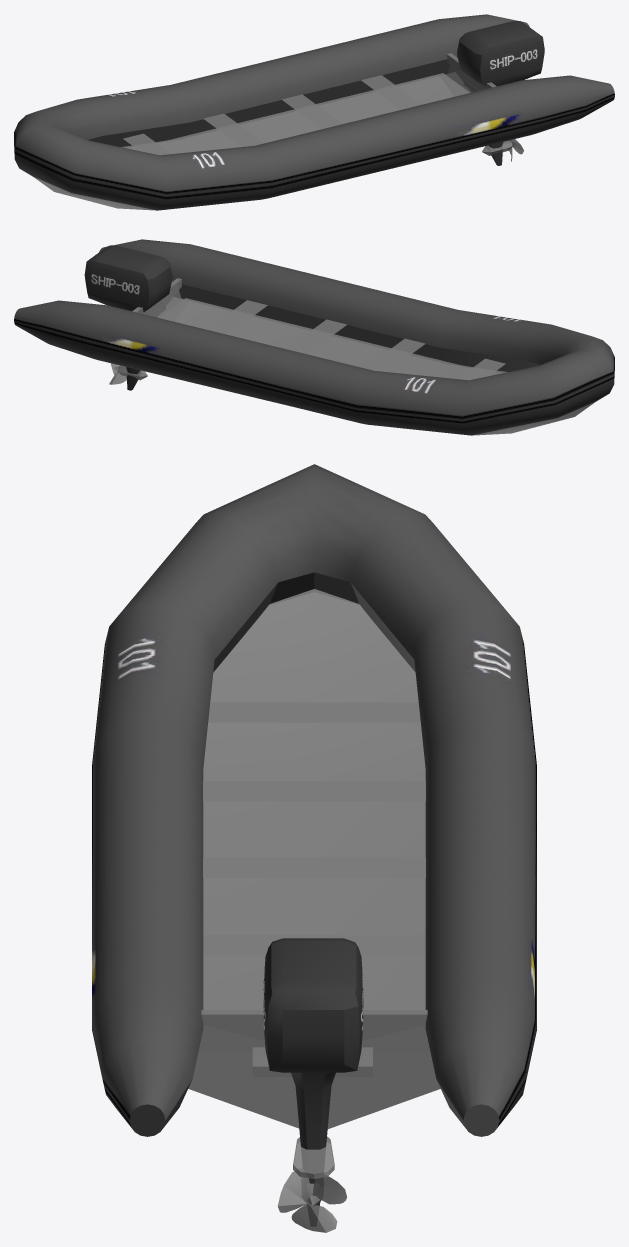
3 renders of one model, top to bottom at view 1: azimuth 30°, elevation 25°; view 2: azimuth 150°, elevation 25°; view 3: azimuth 270°, elevation 25°, orthographic. The views are drawn at different scales.
Parts seen in each view (by area): view 1: 对象0011; view 2: 对象0011; view 3: 对象0011.
Boxes of the visible parts, <box> form: 对象0011: <box>14,14,614,210</box>; 对象0011: <box>14,239,614,435</box>; 对象0011: <box>92,464,536,1232</box>.
Bounding box in the file's own units: 10.31 × 2.71 × 3.58.
3 materials, 2 textured.
